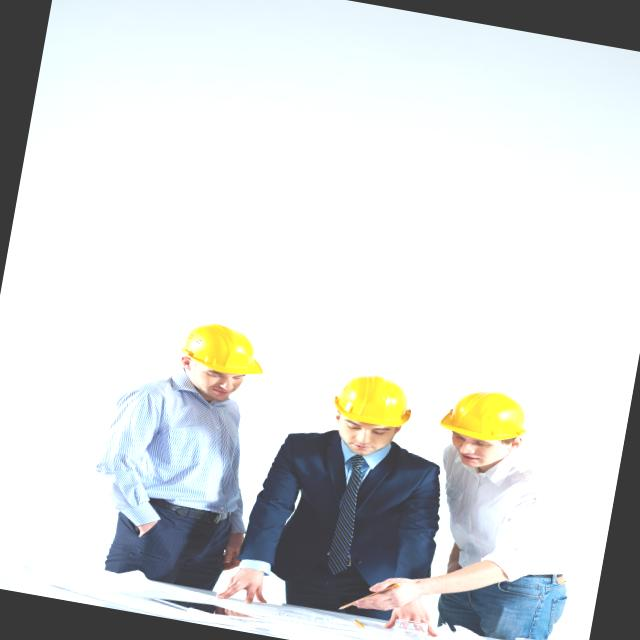helmet: (432, 380, 538, 453), (168, 315, 274, 382), (324, 365, 421, 435)
no-vest: (247, 416, 440, 596), (96, 372, 258, 548), (432, 442, 566, 608)
